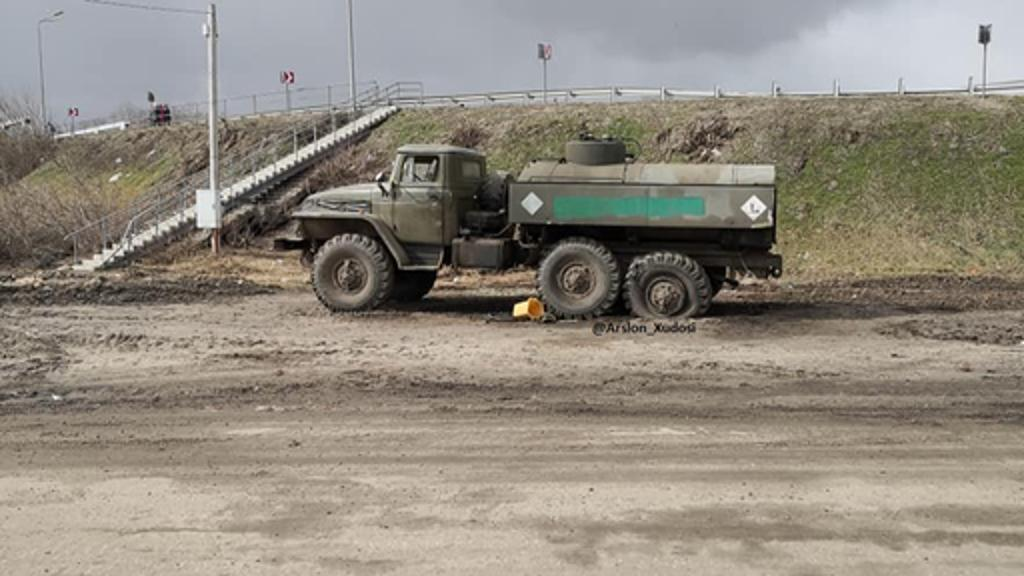TRUCK: (272, 126, 790, 324)
